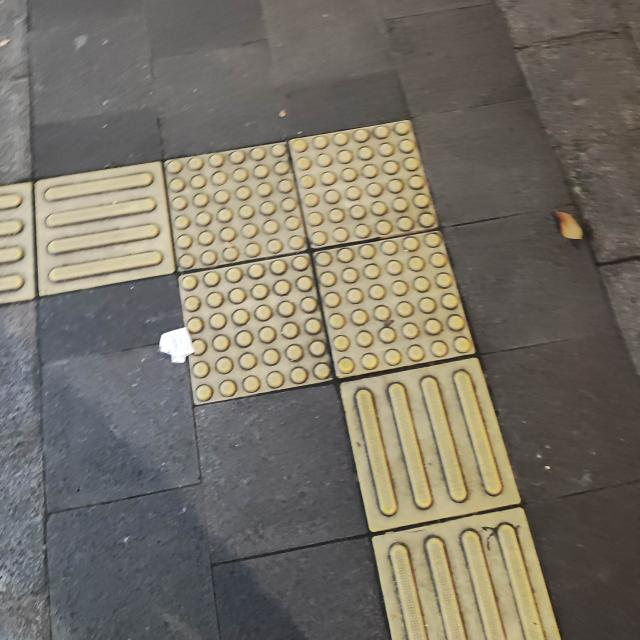kiri: (0, 89, 589, 481)
